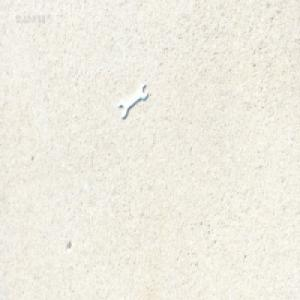Wrench: (118, 82, 149, 117)
